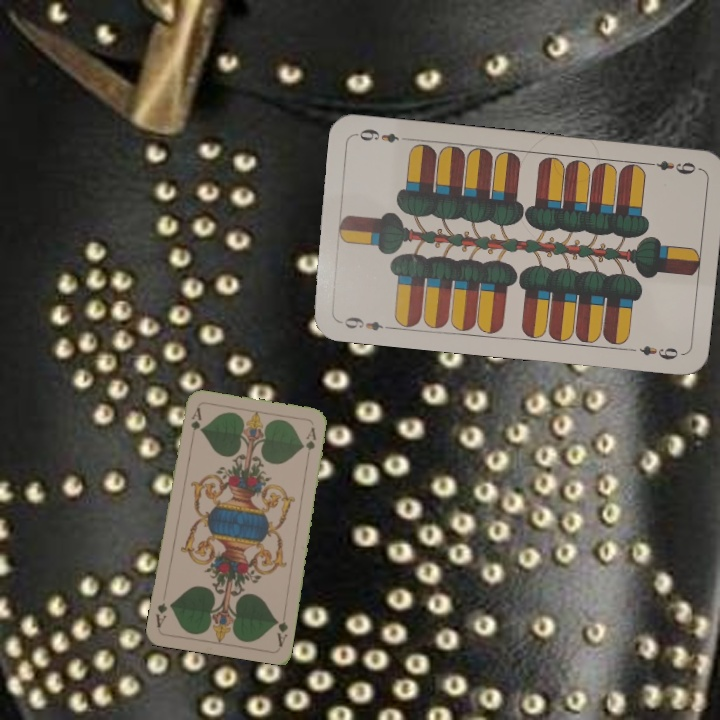E9: (335, 312, 394, 334), (642, 156, 701, 177)
GA: (272, 608, 290, 649), (187, 404, 203, 433)
